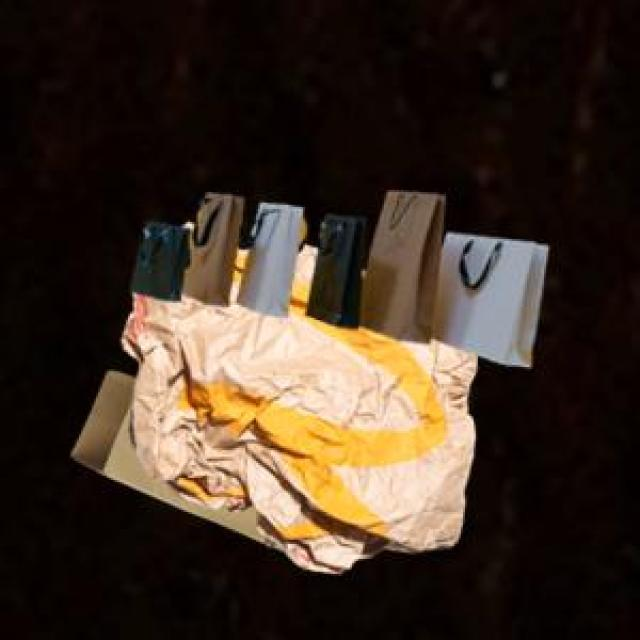paper: (117, 241, 474, 570), (126, 188, 543, 363), (68, 367, 261, 540)
